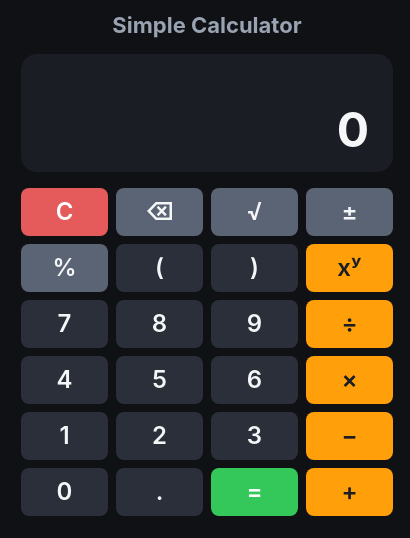
Scenario: App › shows a friendly percent symbol while sending the backend form
Click the button "5": (160, 380) [116,356,203,404]
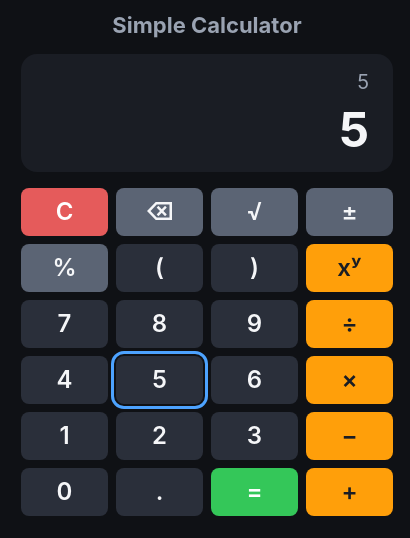
Click the button "0": (64, 492) [21,468,108,516]
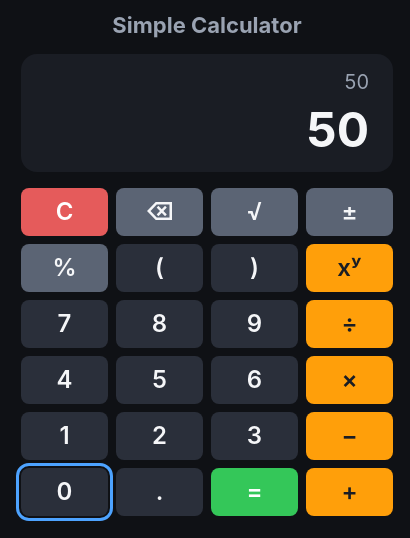
Click the button named "percent": (64, 268) [21,244,108,292]
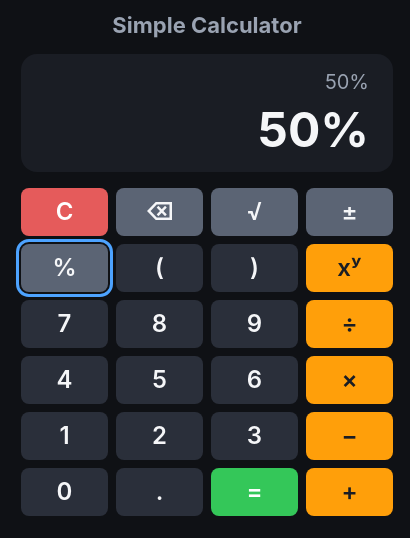
Expected: the message reads "50%", [258,100,369,159]
Click the button named "equals": (254, 492) [211,468,298,516]
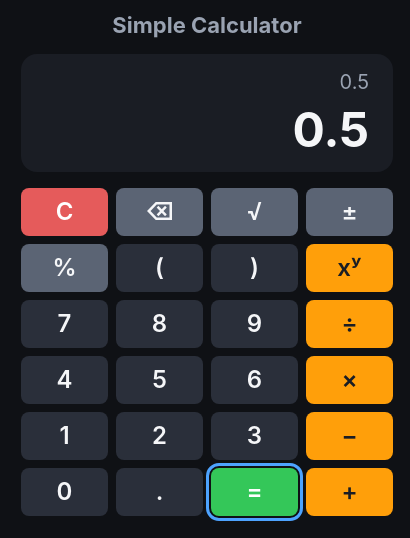
Expected: the message reads "0.5", [292,100,369,159]
